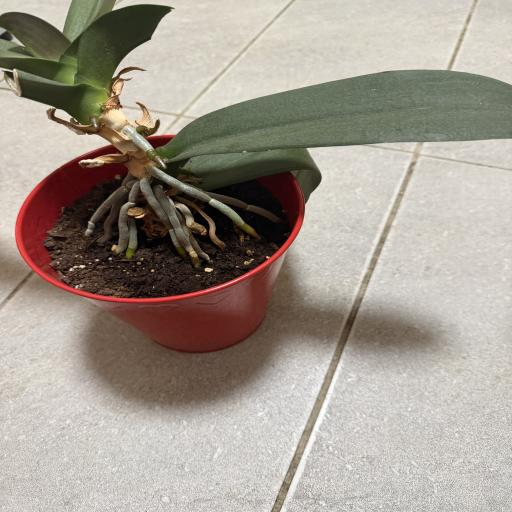Plant Pot: (16, 134, 306, 352)
